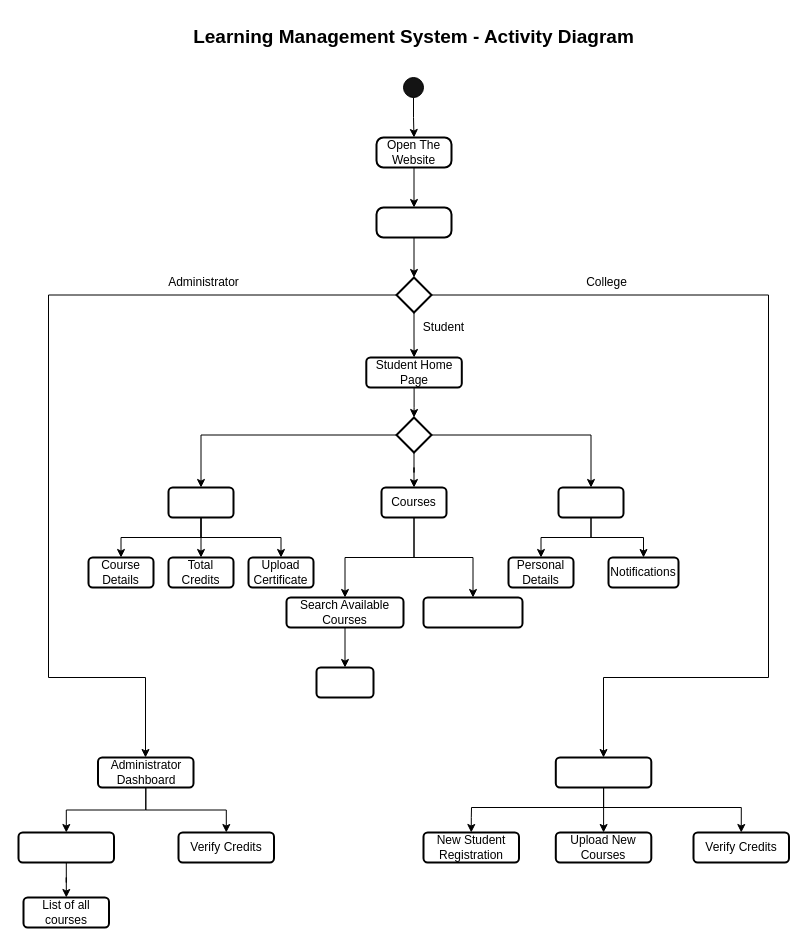
The diagram is 807 pixels wide and 945 high, and some of its shapes have lost their labels. The shapes that lost their labels are listed below. From the top down, each one's centre as x and y in pixels, then its label:
At point 413,222: "Login".
At point 200,502: "Dashboard".
At point 590,502: "Profile".
At point 472,612: "Enrolled Courses".
At point 344,682: "Enroll".
At point 603,772: "College Dashboard".
At point 65,847: "List of all colleges".
